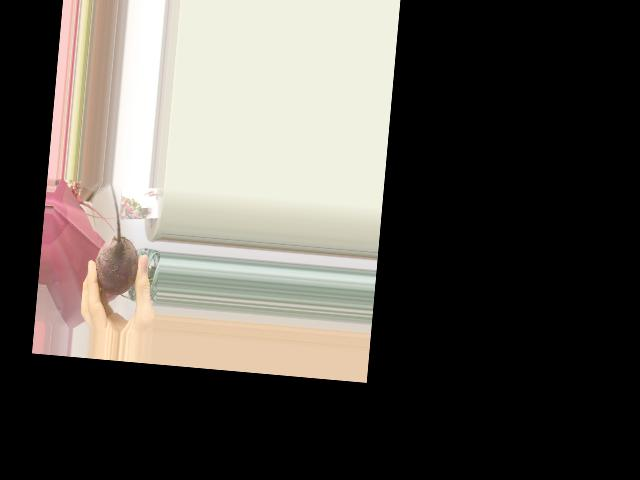beet: (93, 181, 145, 298)
